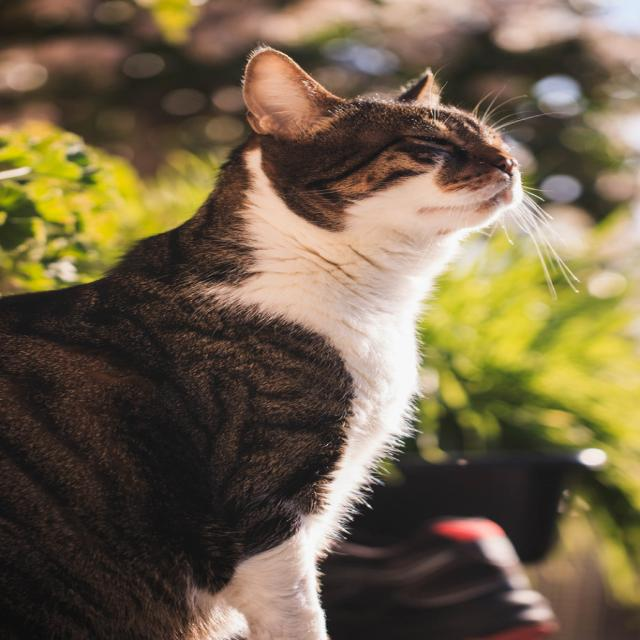Cat: (0, 45, 585, 639)
